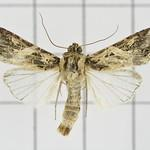Spodoptera litura: (1, 12, 150, 135)
